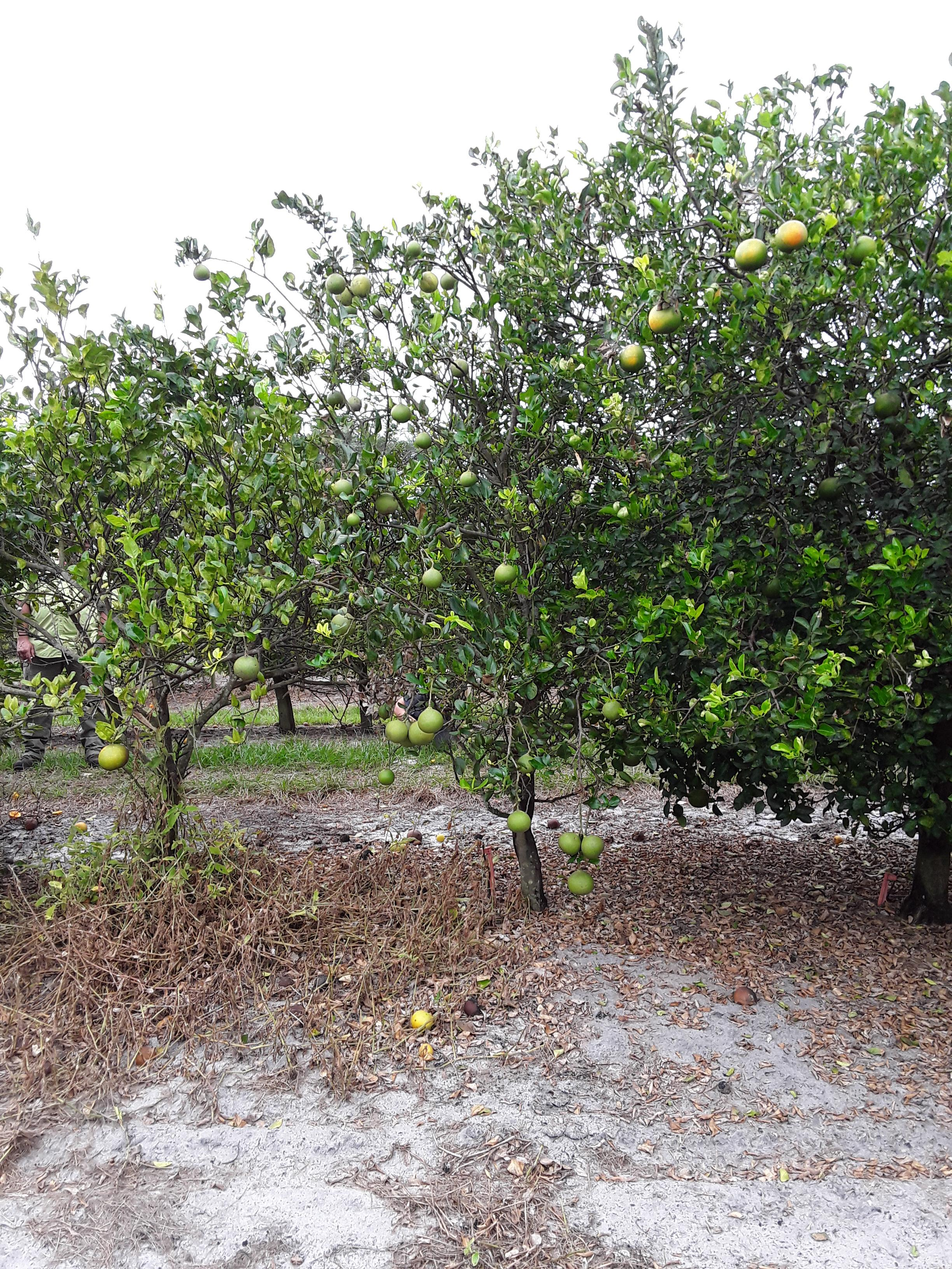fruit_on_ground: (730, 237, 771, 274), (771, 218, 813, 253), (647, 301, 686, 335), (872, 384, 905, 422), (96, 742, 132, 773), (407, 715, 436, 749), (492, 555, 520, 589), (848, 229, 875, 264), (618, 343, 648, 374), (233, 647, 259, 681), (416, 703, 443, 735), (567, 869, 597, 897), (818, 472, 843, 504), (598, 699, 623, 731), (329, 610, 356, 639), (506, 808, 533, 836), (388, 400, 416, 425), (581, 833, 606, 861), (374, 491, 400, 517), (546, 387, 576, 409), (385, 718, 408, 746), (557, 830, 581, 856), (421, 565, 444, 592), (620, 740, 642, 768), (325, 271, 347, 299), (559, 695, 583, 720), (512, 717, 542, 737), (762, 574, 785, 600), (456, 520, 479, 545), (330, 476, 356, 498), (334, 281, 354, 309), (688, 786, 711, 810), (516, 749, 538, 774), (325, 388, 351, 409), (371, 302, 394, 324), (191, 260, 213, 282), (246, 404, 270, 423), (459, 467, 478, 491), (419, 269, 438, 293), (449, 358, 471, 378), (406, 235, 425, 258), (354, 272, 373, 295), (415, 430, 433, 453), (377, 765, 395, 788), (345, 394, 365, 414), (399, 731, 418, 751), (345, 508, 362, 530), (577, 846, 593, 866), (298, 355, 314, 374), (441, 269, 456, 289), (376, 702, 392, 719), (96, 489, 114, 503)
fruit_on_tree: (409, 1007, 434, 1037), (133, 1045, 161, 1069), (732, 983, 758, 1007), (462, 995, 484, 1020), (285, 1002, 309, 1023), (276, 975, 299, 995), (626, 827, 650, 844), (406, 827, 426, 847), (416, 1039, 434, 1061), (73, 819, 89, 835), (357, 849, 374, 863), (432, 831, 449, 844), (545, 818, 561, 831), (24, 820, 37, 835), (831, 834, 846, 847), (338, 830, 352, 843), (444, 820, 456, 834), (7, 810, 22, 820), (9, 791, 21, 801), (352, 842, 365, 849), (51, 809, 65, 815)
